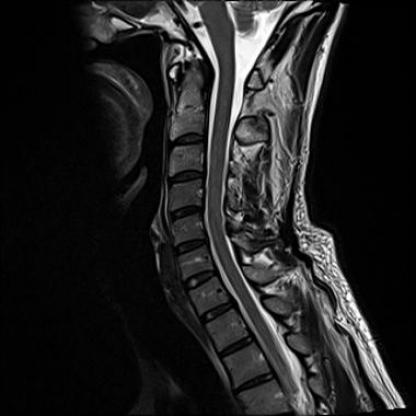Disc Protrusionrotation: (167, 167, 206, 187), (196, 304, 236, 322)
Osteophytesrotation: (167, 167, 206, 187)
